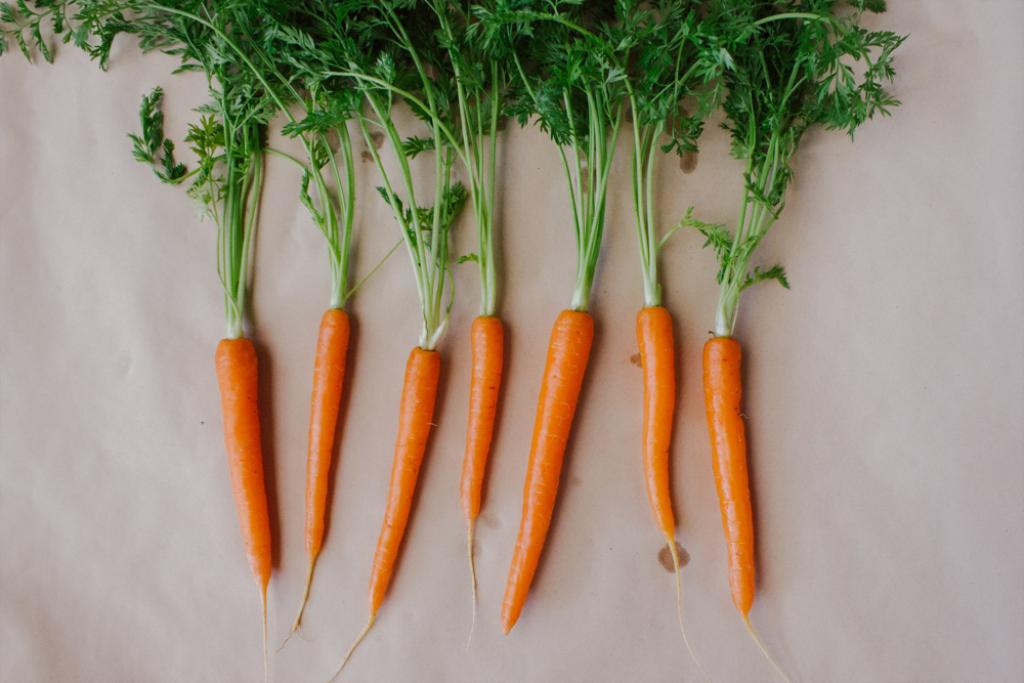Carrot: (0, 0, 914, 683)
